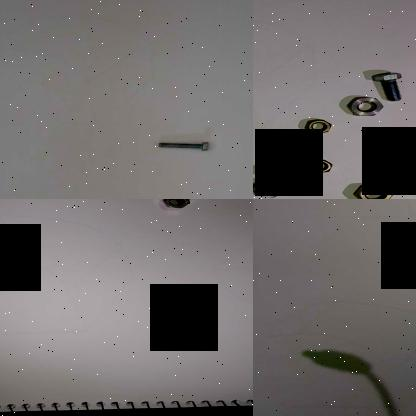Bolts: (374, 66, 410, 102), (155, 137, 212, 154)
NUTS: (338, 91, 386, 121), (375, 126, 416, 154), (253, 158, 286, 180), (300, 116, 336, 136), (253, 178, 287, 199), (301, 155, 335, 176), (157, 199, 193, 211), (403, 177, 416, 199)
